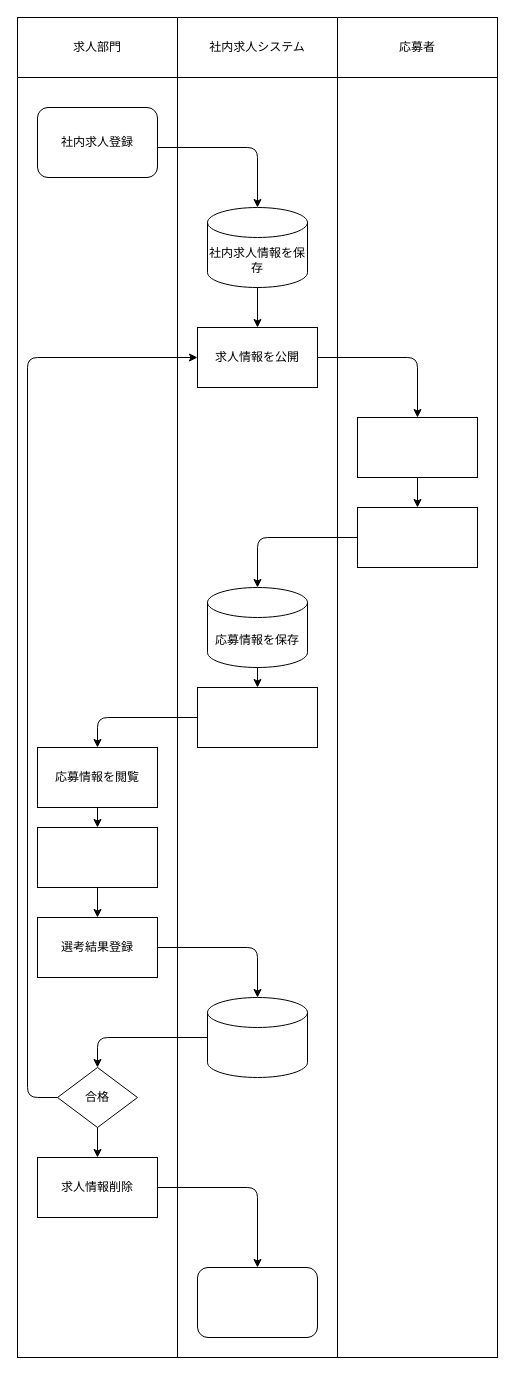
Some shapes in this 515 by 1375 pixel diagram are drawn without their labels. The shapes that lost their labels are listed below. From the top down, each one's box as (x1, y1, x2, y2) in pixels, then its label:
(356, 416, 478, 478): 求人情報を閲覧
(356, 506, 478, 568): 社内求人に応募
(196, 686, 318, 748): 応募情報を求人部門に通知
(36, 826, 158, 888): 選考を実施
(206, 996, 308, 1078): 選考結果を保存
(196, 1266, 318, 1338): 求人情報の公開を停止
